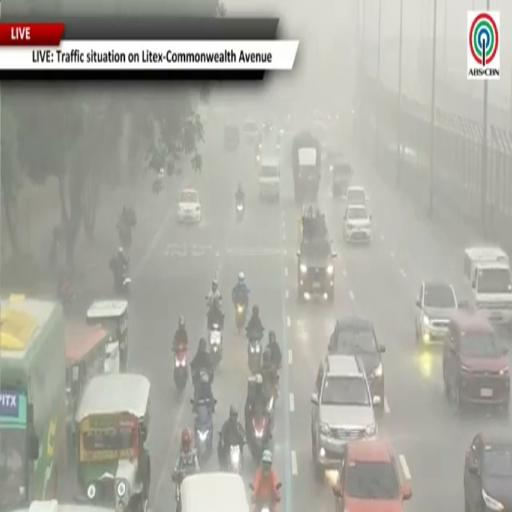car: (311, 355, 377, 481), (443, 310, 510, 415), (328, 315, 385, 415), (333, 440, 411, 511), (464, 434, 511, 511), (415, 281, 458, 345), (342, 205, 371, 243), (178, 188, 202, 223), (242, 118, 260, 145), (346, 186, 368, 206)
jeepney: (76, 374, 150, 511), (66, 324, 109, 455), (87, 299, 128, 372), (16, 500, 111, 511)
motorcycle: (191, 399, 216, 465), (248, 412, 270, 460), (264, 377, 278, 428), (174, 345, 188, 393), (222, 444, 243, 474), (173, 471, 188, 511), (209, 324, 222, 367), (58, 280, 74, 311), (114, 268, 131, 297), (248, 339, 261, 374), (117, 222, 132, 250), (229, 445, 242, 473), (236, 302, 246, 332), (255, 502, 275, 511), (236, 202, 244, 221)
truck: (0, 295, 66, 509), (464, 247, 511, 329), (297, 205, 336, 302), (292, 132, 321, 203), (258, 157, 280, 201)
